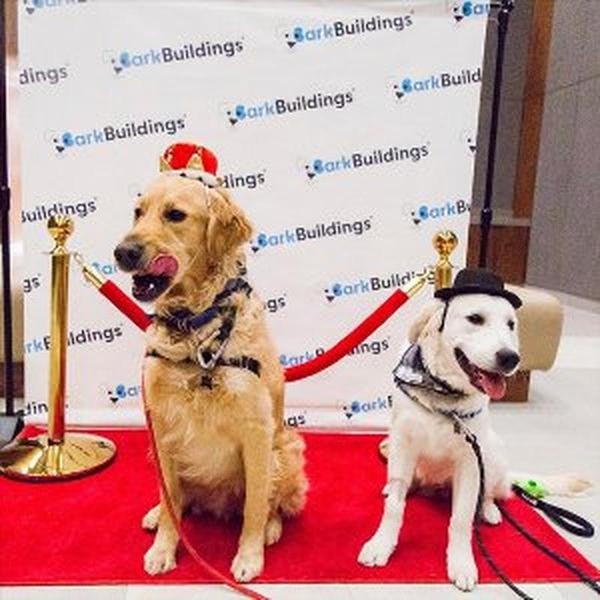allqu: (107, 159, 317, 594), (353, 290, 532, 600)
